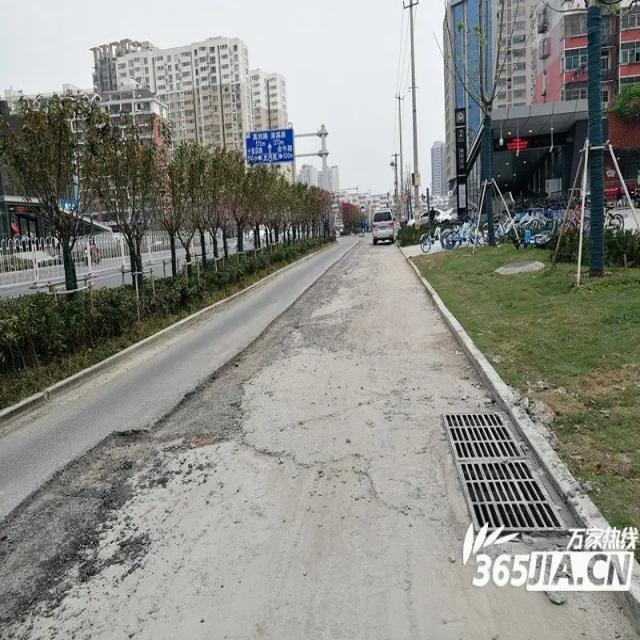Pothole: (0, 243, 362, 633)
